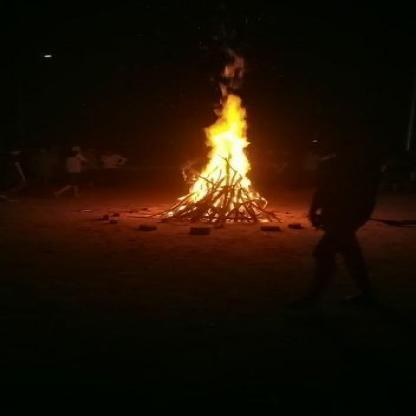fire: (168, 48, 274, 214)
